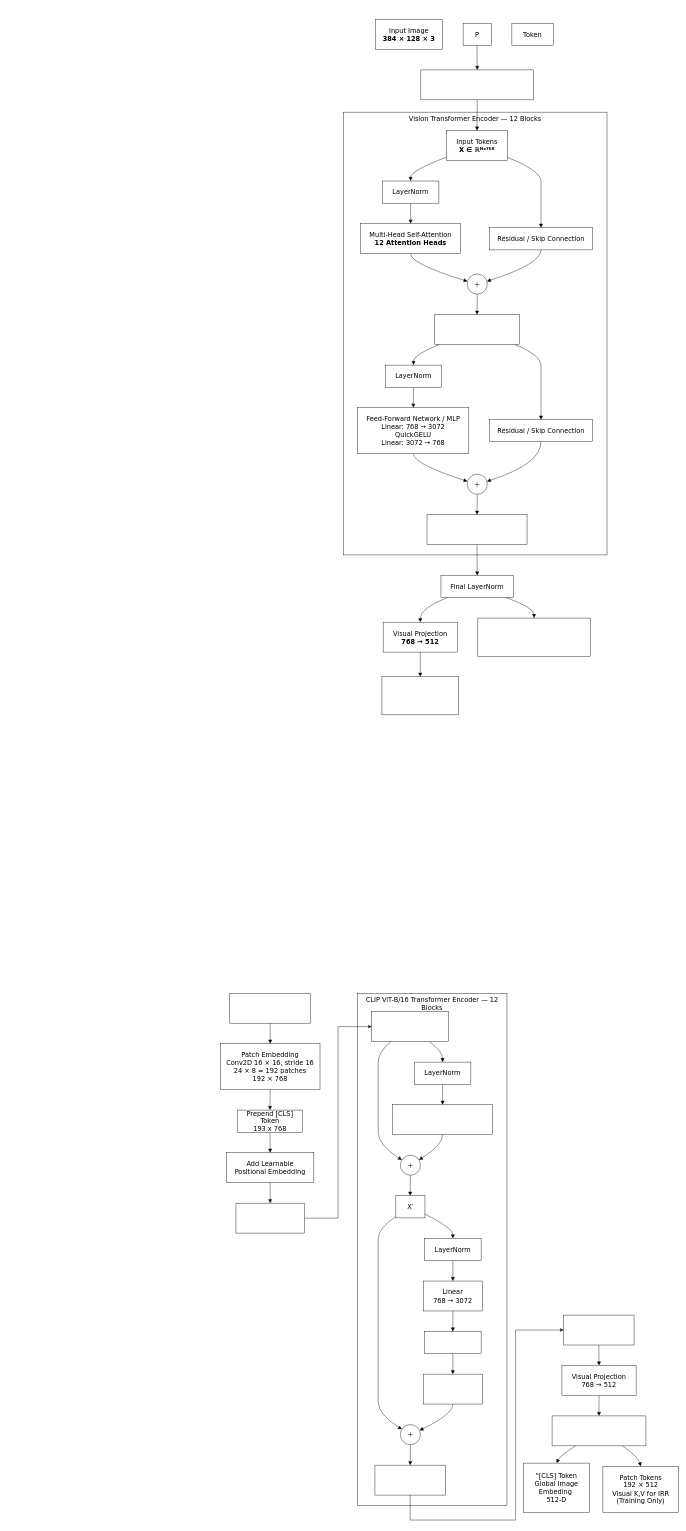
Some shapes in this 686 by 1531 pixel diagram are drawn without their labels. Each missing label, with the centre of its shape:
"Token Sequence Construction Prepend [CLS: (x=477, y=84)
[CLS] Token Global Image Embedding: (x=420, y=695)
Block Output X″ 193 × 768: (x=410, y=1480)
Input Person Image 384 × 128 × 3: (x=270, y=1008)
Intermediate Tokens X′: (x=476, y=329)
Linear 3072 → 768: (x=452, y=1389)
Multi-Head Self-Attention 12 Heads: (x=442, y=1119)
Patch Tokens Local Visual Representations Input for IRR: (x=533, y=637)
Post LayerNorm LN_post: (x=598, y=1330)
Pre-LayerNorm LN_pre: (x=270, y=1218)
Projected Visual Tokens 193 × 512: (x=599, y=1431)
QuickGELU: (x=452, y=1342)
Token Sequence X 193 × 768: (x=410, y=1026)
Transformer Block Output X″: (x=477, y=529)
